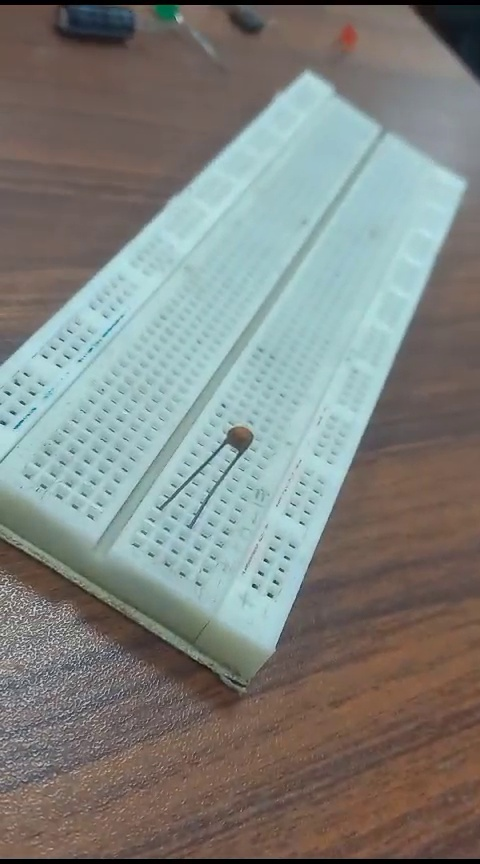ceramic capacitor: (158, 421, 251, 543)
